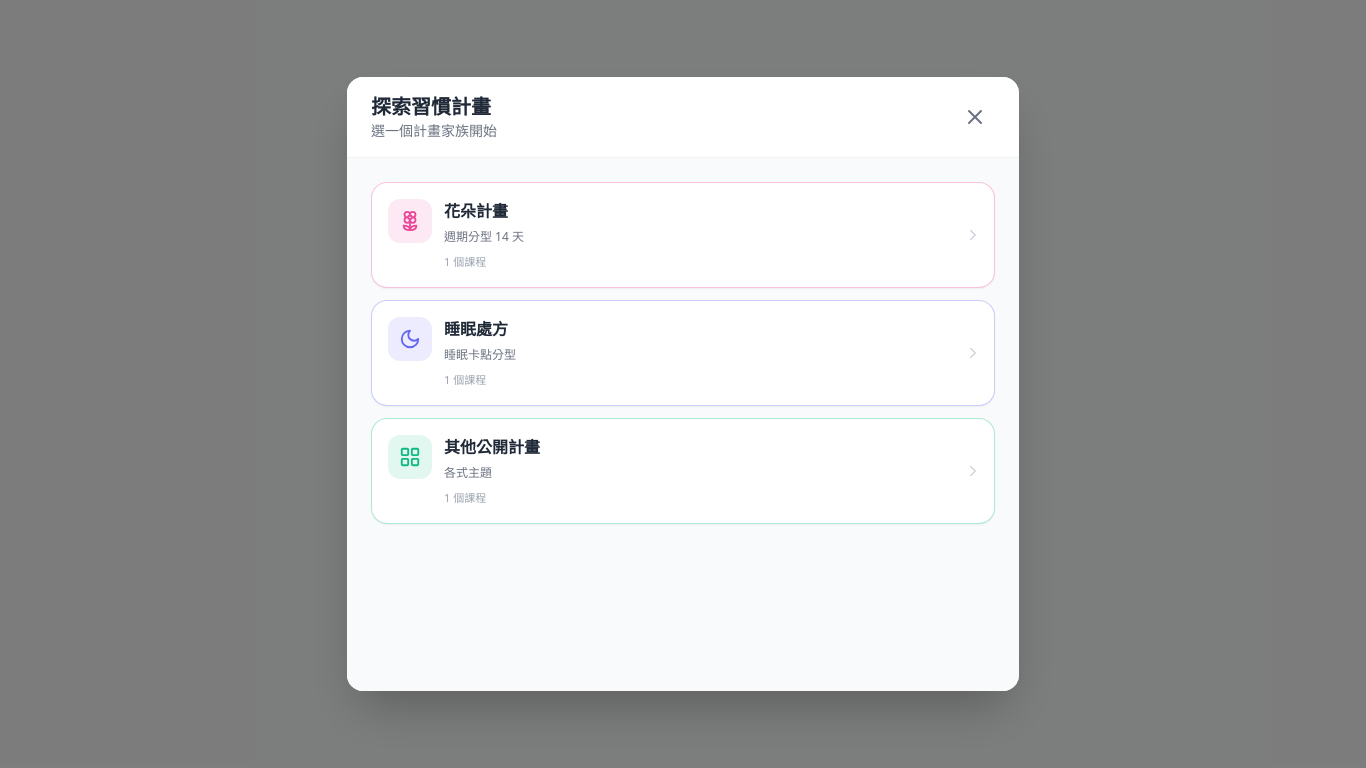
TemplateExplorer 兩層 › 第二層返回鍵回到第一層
The width and height of the screenshot is (1366, 768).
Click the heading "花朵計畫" at (476, 211), box [444,200,508,222]
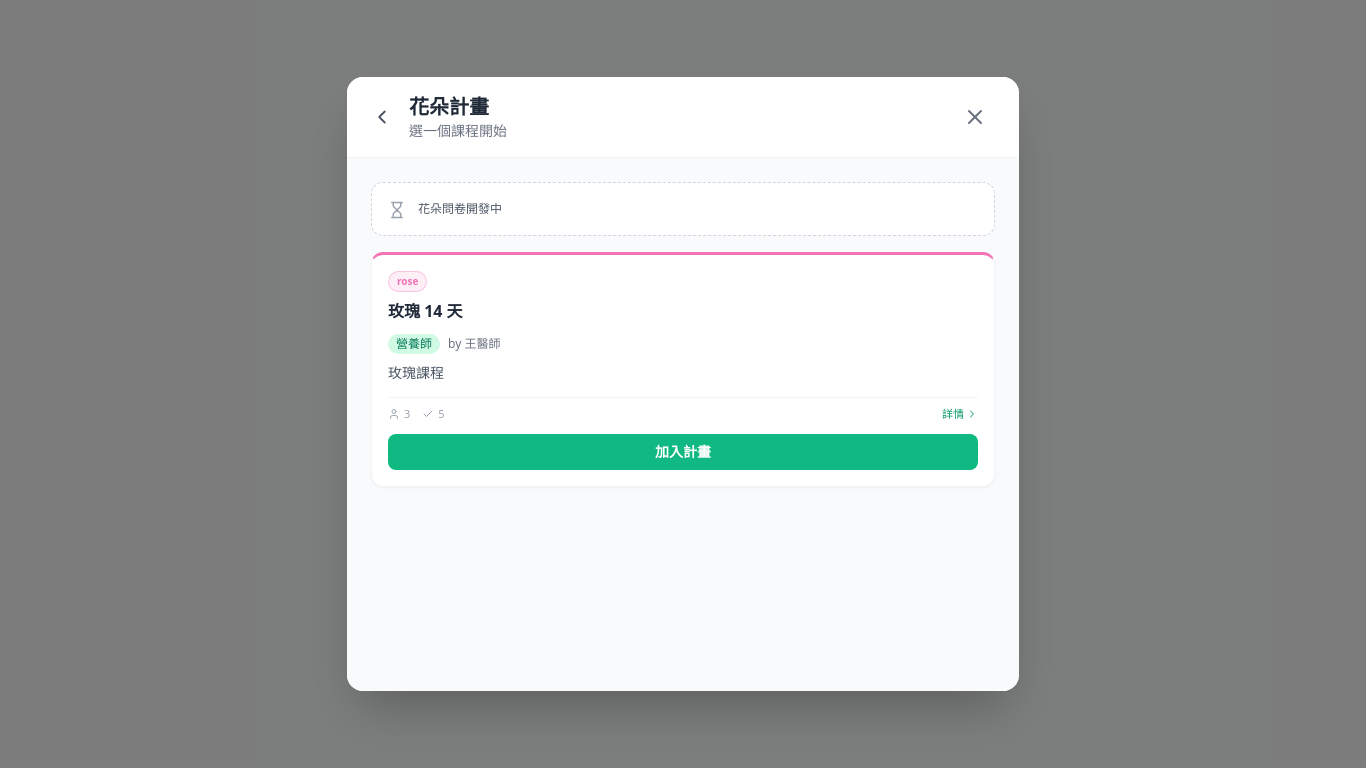
Expected: the heading "玫瑰 14 天" is shown, [388,300,463,322]
Click the button named "返回計畫家族" at (382, 117), box [363,98,401,136]
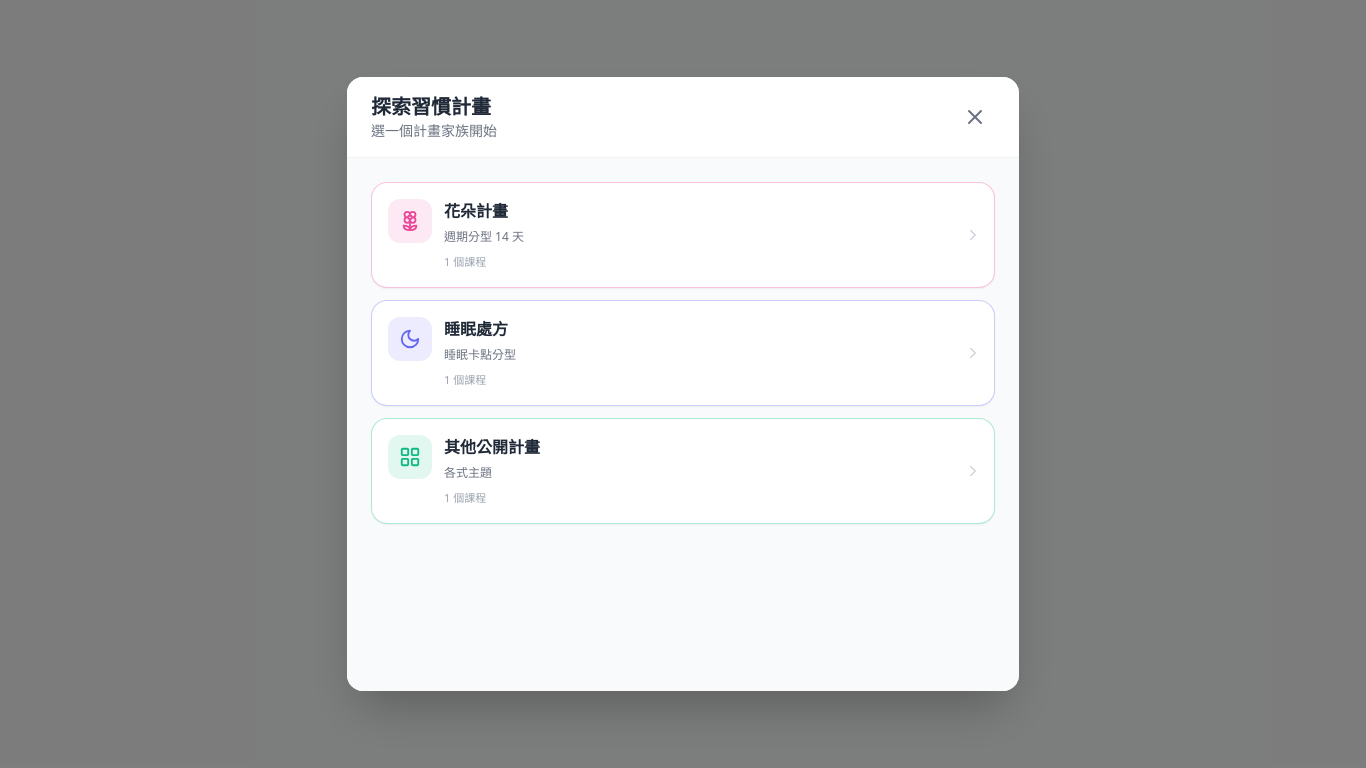
Expected: the heading "睡眠處方" is shown, [444,318,508,340]
